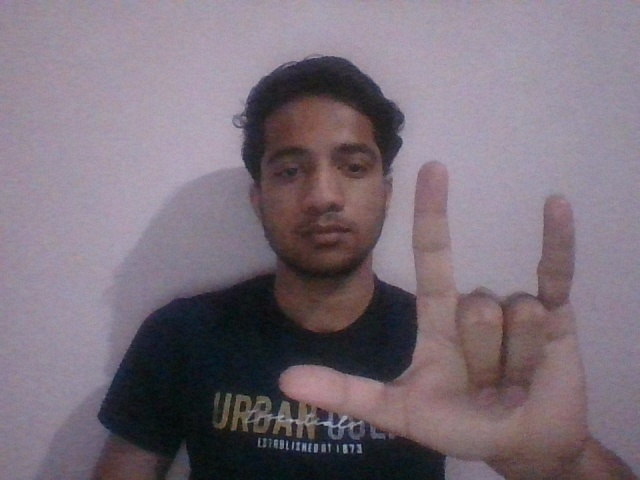iloveyou: (283, 122, 592, 459)
